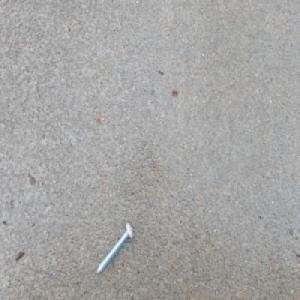Nail: (95, 220, 134, 275)
